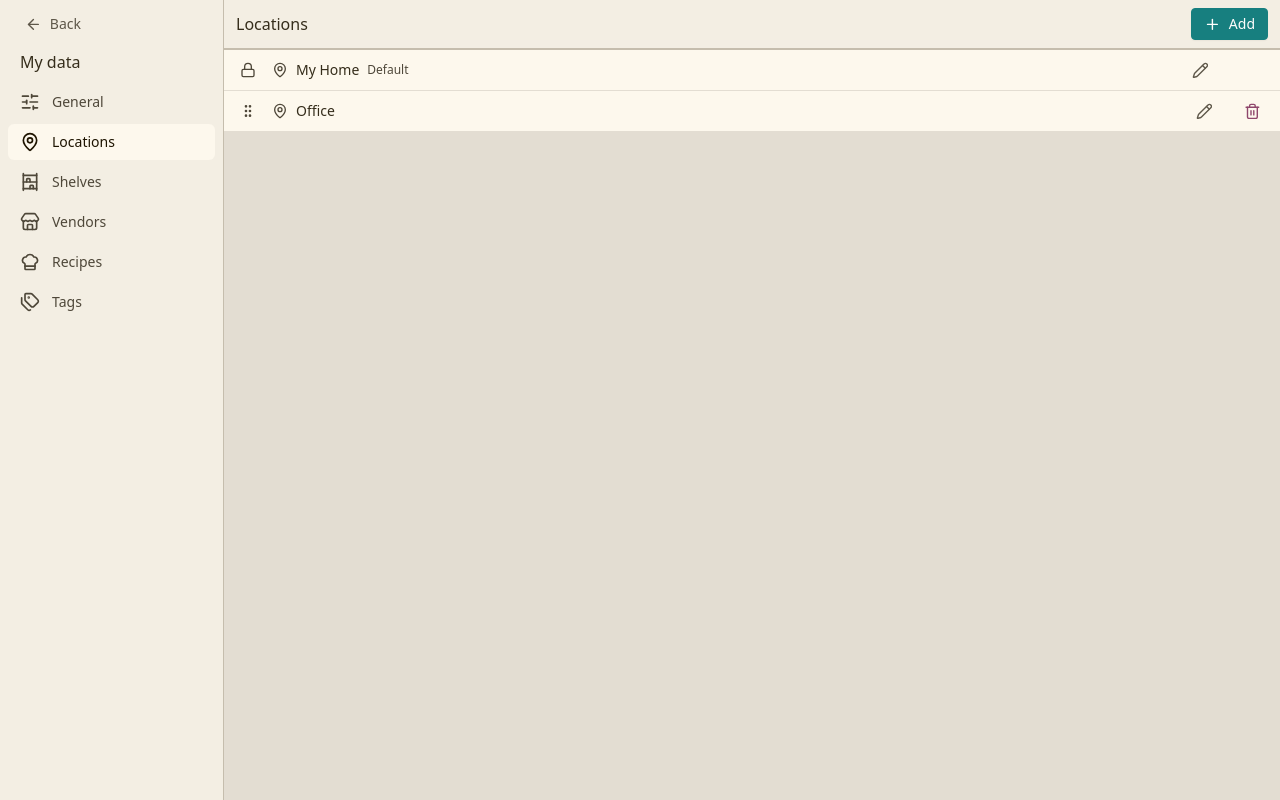
Settings locations page › user can delete a non-default location
expect the text "Office" is shown: met, box [296,102,335,120]
# When the user clicks delete and confirms
Click the button named "delete office". click: (1252, 111)
box: [1236,95,1268,127]
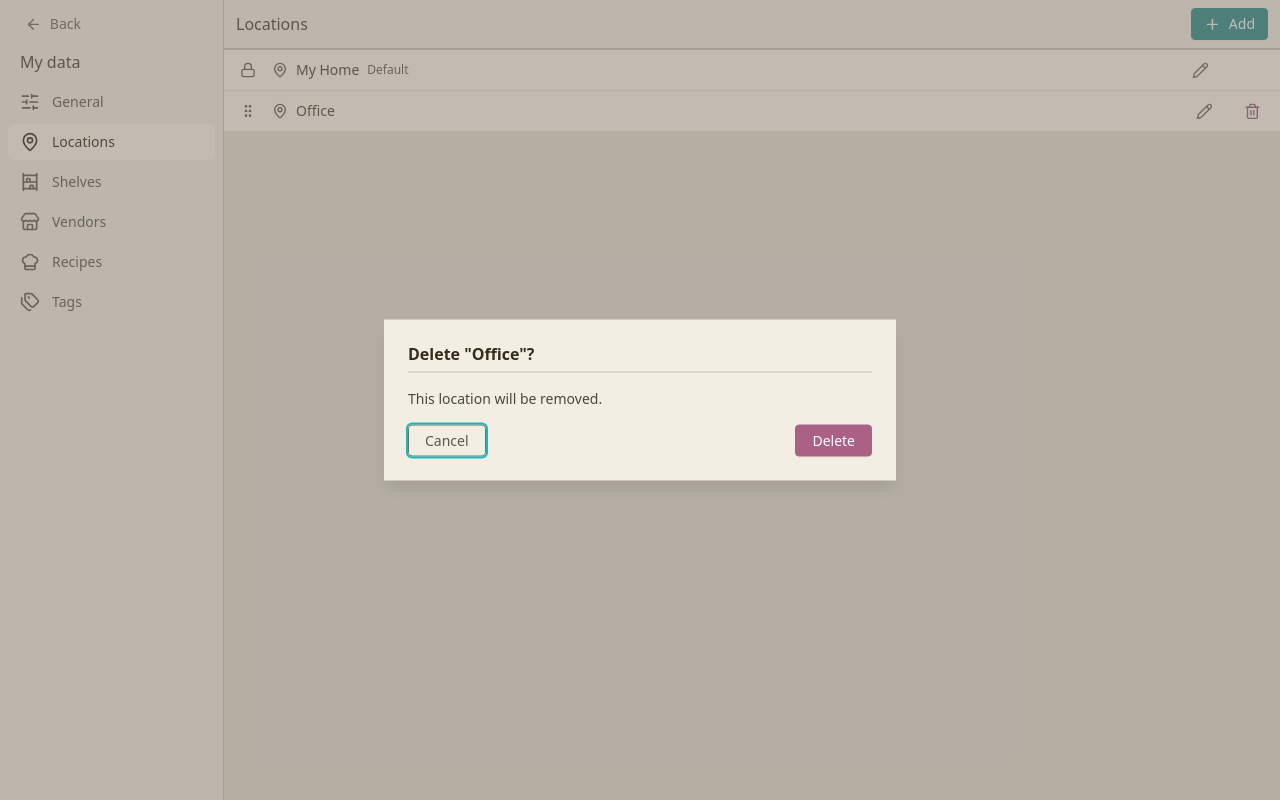
Click the button "Delete". click: (834, 440)
box: [795,424,872,456]
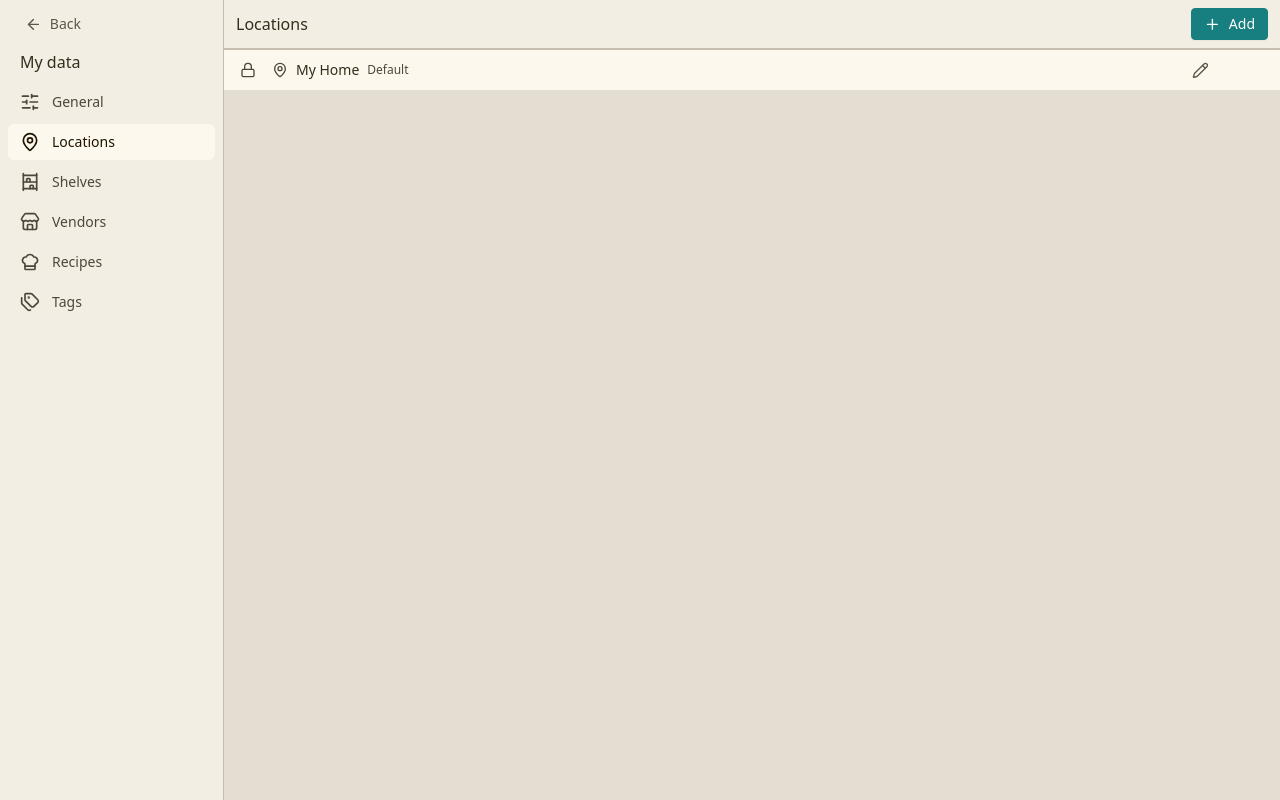
expect the text "Office" is gone: met
